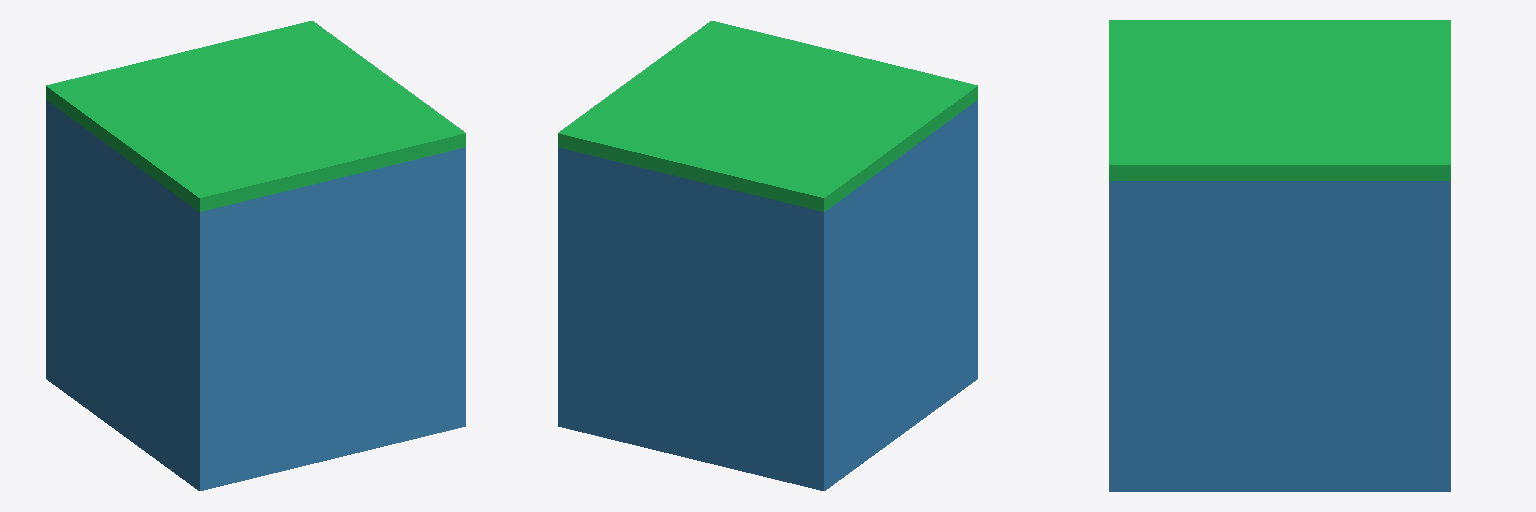
URDF robot description (hinged_box):
<?xml version="1.0"?>
<robot name="hinged_box">
  <material name="box_mat">
    <color rgba="0.3 0.6 0.8 1.0"/>
  </material>
  <material name="lid_mat">
    <color rgba="0.2 0.8 0.4 1.0"/>
  </material>

  <link name="base_link">
    <inertial>
      <mass value="0.5"/>
      <origin xyz="0 0 0.1" rpy="0 0 0"/>
      <inertia ixx="0.005" ixy="0" ixz="0" iyy="0.005" iyz="0" izz="0.005"/>
    </inertial>
    
    <!-- Bottom -->
    <visual>
      <origin xyz="0 0 0.005" rpy="0 0 0"/>
      <geometry><box size="0.2 0.2 0.01"/></geometry>
      <material name="box_mat"/>
    </visual>
    <collision>
      <origin xyz="0 0 0.005" rpy="0 0 0"/>
      <geometry><box size="0.2 0.2 0.01"/></geometry>
    </collision>

    <!-- Front -->
    <visual>
      <origin xyz="0 0.095 0.1" rpy="0 0 0"/>
      <geometry><box size="0.2 0.01 0.2"/></geometry>
      <material name="box_mat"/>
    </visual>
    <collision>
      <origin xyz="0 0.095 0.1" rpy="0 0 0"/>
      <geometry><box size="0.2 0.01 0.2"/></geometry>
    </collision>

    <!-- Back -->
    <visual>
      <origin xyz="0 -0.095 0.1" rpy="0 0 0"/>
      <geometry><box size="0.2 0.01 0.2"/></geometry>
      <material name="box_mat"/>
    </visual>
    <collision>
      <origin xyz="0 -0.095 0.1" rpy="0 0 0"/>
      <geometry><box size="0.2 0.01 0.2"/></geometry>
    </collision>

    <!-- Left -->
    <visual>
      <origin xyz="-0.095 0 0.1" rpy="0 0 0"/>
      <geometry><box size="0.01 0.18 0.2"/></geometry>
      <material name="box_mat"/>
    </visual>
    <collision>
      <origin xyz="-0.095 0 0.1" rpy="0 0 0"/>
      <geometry><box size="0.01 0.18 0.2"/></geometry>
    </collision>

    <!-- Right -->
    <visual>
      <origin xyz="0.095 0 0.1" rpy="0 0 0"/>
      <geometry><box size="0.01 0.18 0.2"/></geometry>
      <material name="box_mat"/>
    </visual>
    <collision>
      <origin xyz="0.095 0 0.1" rpy="0 0 0"/>
      <geometry><box size="0.01 0.18 0.2"/></geometry>
    </collision>
  </link>

  <link name="lid_link">
    <inertial>
      <mass value="0.1"/>
      <!-- Lid origin relative to joint -->
      <origin xyz="0 0.1 0.005" rpy="0 0 0"/>
      <inertia ixx="0.001" ixy="0" ixz="0" iyy="0.001" iyz="0" izz="0.001"/>
    </inertial>
    <visual>
      <origin xyz="0 0.1 0.005" rpy="0 0 0"/>
      <geometry><box size="0.2 0.2 0.01"/></geometry>
      <material name="lid_mat"/>
    </visual>
    <collision>
      <origin xyz="0 0.1 0.005" rpy="0 0 0"/>
      <geometry><box size="0.2 0.2 0.01"/></geometry>
    </collision>
  </link>

  <joint name="lid_joint" type="revolute">
    <parent link="base_link"/>
    <child link="lid_link"/>
    <!-- Joint positioned at the back-top edge -->
    <origin xyz="0 -0.1 0.2" rpy="0 0 0"/>
    <axis xyz="1 0 0"/>
    <limit lower="0" upper="2.0" effort="10.0" velocity="1.0"/>
    <dynamics damping="0.1" friction="0.1"/>
  </joint>
</robot>

--- Facts derived from the render (not from the file) ---
3 views of the same robot in one strip: view 1: azimuth 30°, elevation 25°; view 2: azimuth 150°, elevation 25°; view 3: azimuth 270°, elevation 25° (orthographic).
Model hinged_box with 2 links and 1 joints (1 revolute), rooted at base_link, posed every joint at zero.
Visible links, largest first — view 1: base_link, lid_link; view 2: base_link, lid_link; view 3: base_link, lid_link.
Link boxes in pixels (bbox=[...]): base_link: bbox=[46, 100, 465, 490]; lid_link: bbox=[46, 21, 465, 211]; base_link: bbox=[558, 100, 977, 490]; lid_link: bbox=[558, 21, 977, 211]; base_link: bbox=[1109, 181, 1450, 491]; lid_link: bbox=[1109, 20, 1450, 180].
Bounding box of the posed robot: 0.2 × 0.2 × 0.21 m (x, y, z).
Geometry: primitives only (box / cylinder / sphere), no mesh files.
